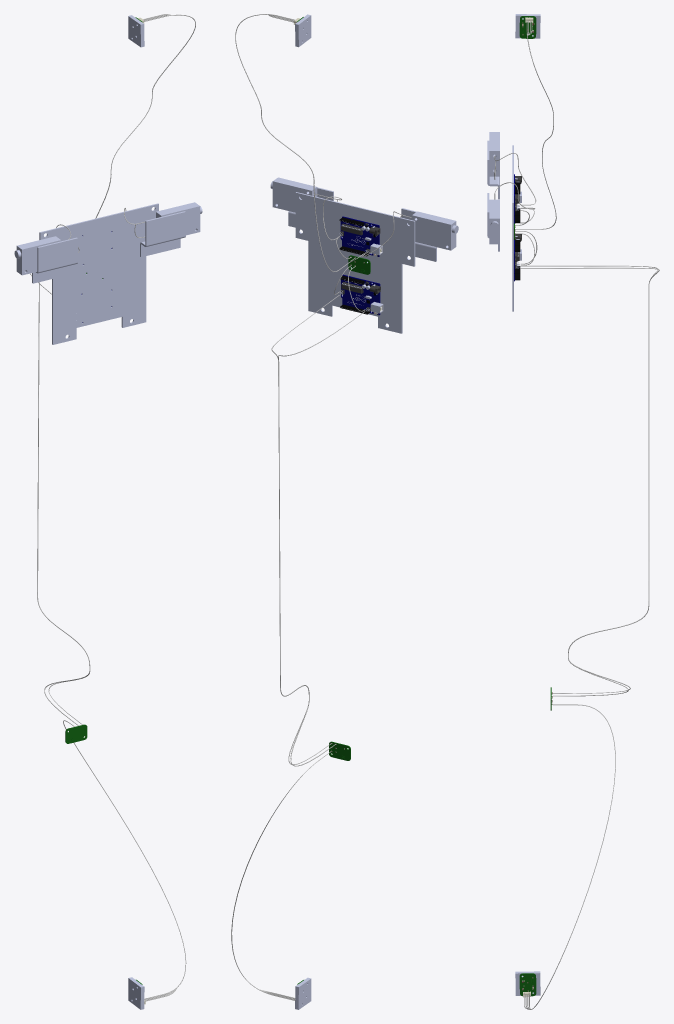
File: SENSOR-ROUTING.fbx
3 views of the same model, side by side, from view 1: azimuth 30°, elevation 25°; view 2: azimuth 150°, elevation 25°; view 3: azimuth 270°, elevation 25° (orthographic).
Visible parts, largest first — view 1: Mirror2, Edge-Flange2 (×2), Boss-Extrude2 (×2), Cable_1, Cable_2; view 2: Mirror2, Boss-Extrude2 (×2), Cut-Extrude5 (×2), Cable_1, Cable_2; view 3: Boss-Extrude2 (×2), Cable_2, Cable_1, Cable_5.
Boxes of the visible parts, x1,y1,x2,y2 form: Mirror2: [39, 203, 158, 344]; Edge-Flange2 (×2): [32, 211, 185, 283]; Boss-Extrude2 (×2): [14, 202, 202, 275]; Cable_1: [30, 273, 90, 725]; Cable_2: [37, 302, 90, 724]; Mirror2: [295, 192, 415, 333]; Boss-Extrude2 (×2): [270, 177, 458, 250]; Cut-Extrude5 (×2): [340, 216, 380, 315]; Cable_1: [278, 311, 364, 766]; Cable_2: [271, 295, 339, 764]; Boss-Extrude2 (×2): [489, 132, 499, 244]; Cable_2: [520, 267, 659, 696]; Cable_1: [521, 265, 658, 693]; Cable_5: [531, 704, 615, 1009].
Size of the model in its own units: 353 by 1661 by 264.
